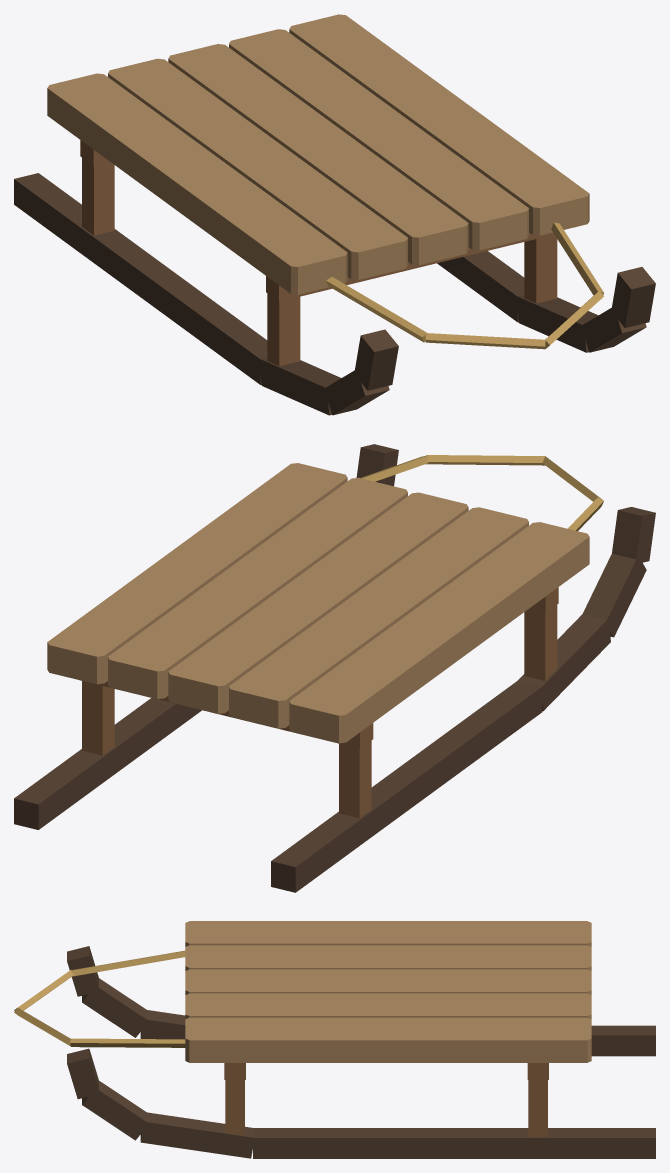
The model's file is deco_sled.glb.
The picture shows the model from 3 angles, top to bottom: view 1: azimuth 30°, elevation 25°; view 2: azimuth 150°, elevation 25°; view 3: azimuth 270°, elevation 25°; orthographic projection. The views are drawn at different scales.
Parts seen in each view (by area): view 1: geometry; view 2: geometry; view 3: geometry.
Part boxes in pixels (x1,y1,x2,y2): geometry: (14, 14, 655, 415); geometry: (14, 444, 655, 892); geometry: (14, 921, 655, 1158).
Size of the model in its own units: 0.79 by 0.3775 by 1.8.
